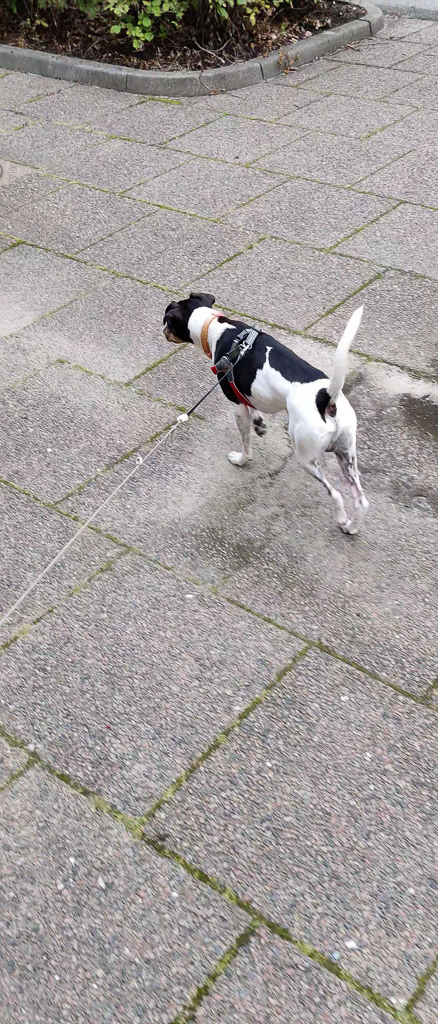Dog: (138, 272, 391, 549)
